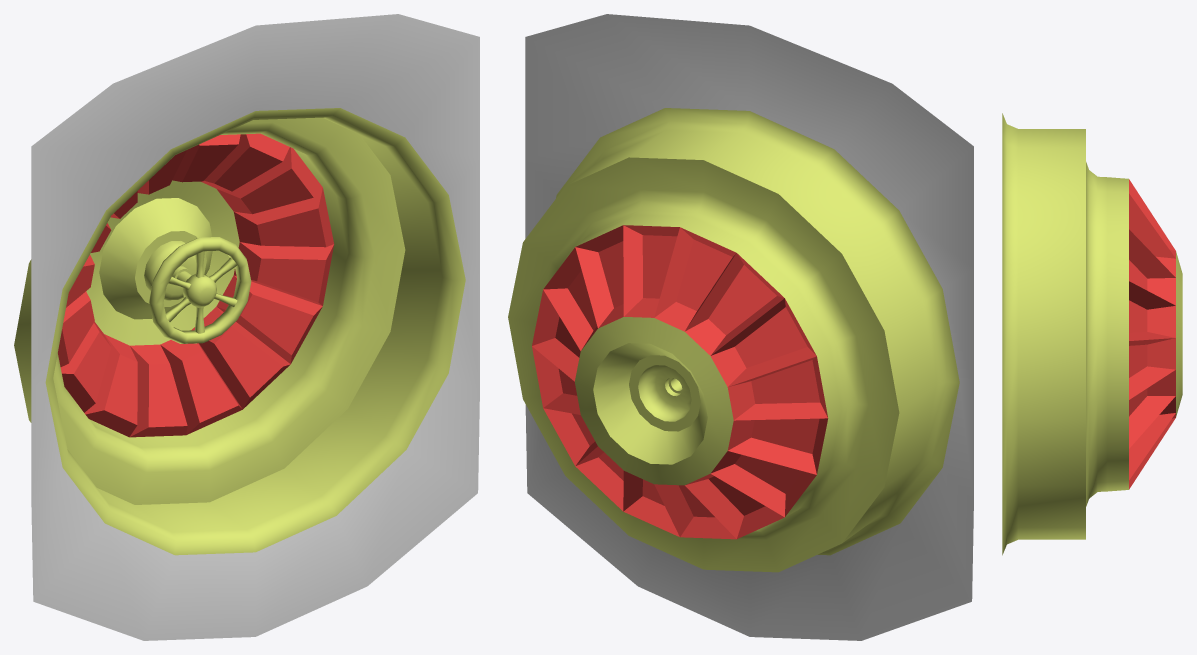
The model's file is Submarine_door.glb.
The picture shows the model from 3 angles, left to right: view 1: azimuth 30°, elevation 25°; view 2: azimuth 150°, elevation 25°; view 3: azimuth 270°, elevation 25°; orthographic projection. The views are drawn at different scales.
Parts seen in each view (by area): view 1: Door, wHEEL; view 2: Door; view 3: Door.
Part boxes in pixels (left/top/right/bottom): Door: left=14, top=14, right=479, bottom=640; wHEEL: left=149, top=237, right=251, bottom=343; Door: left=508, top=14, right=973, bottom=640; Door: left=1002, top=113, right=1182, bottom=555.
Bounding box in the file's own units: 6.78 × 8.83 × 2.6.
